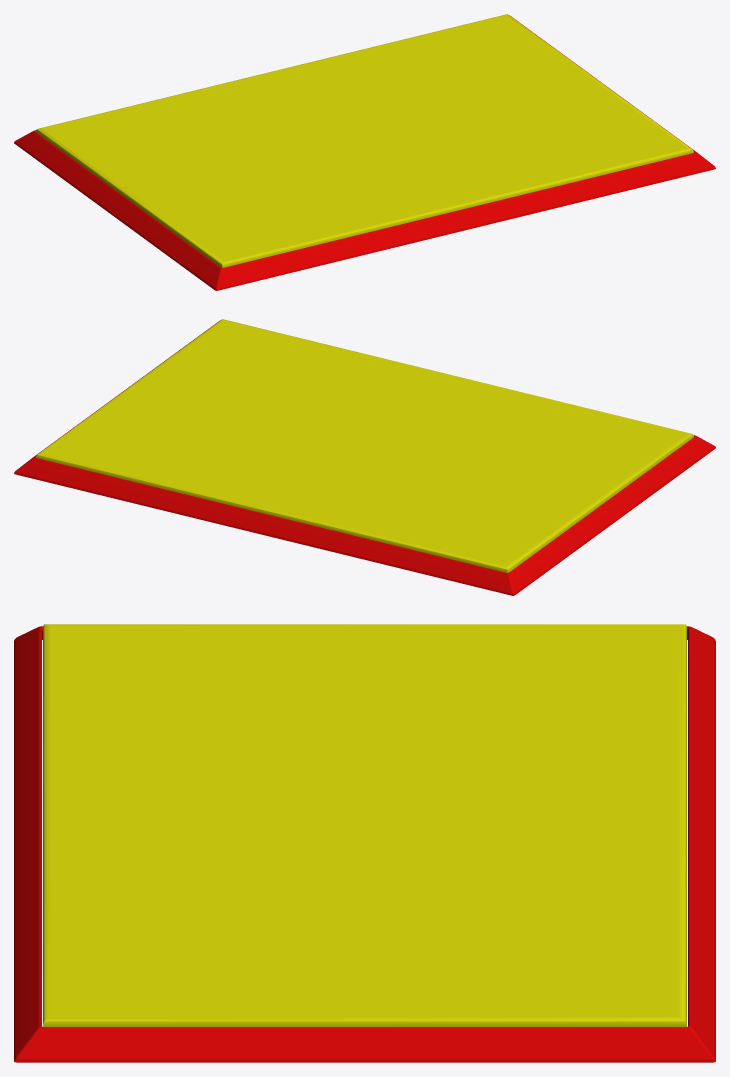
File: Exterior_Mat.fbx
The picture shows the model from 3 angles, top to bottom: view 1: azimuth 30°, elevation 25°; view 2: azimuth 150°, elevation 25°; view 3: azimuth 270°, elevation 25°; orthographic projection. The views are drawn at different scales.
Visible parts, largest first — view 1: Exterior_Mat; view 2: Exterior_Mat; view 3: Exterior_Mat.
Part boxes in pixels (<box>): Exterior_Mat: <box>14,14,715,290</box>; Exterior_Mat: <box>14,319,715,595</box>; Exterior_Mat: <box>14,624,715,1062</box>.
Size of the model in its own units: 458 by 15.19 by 322.
